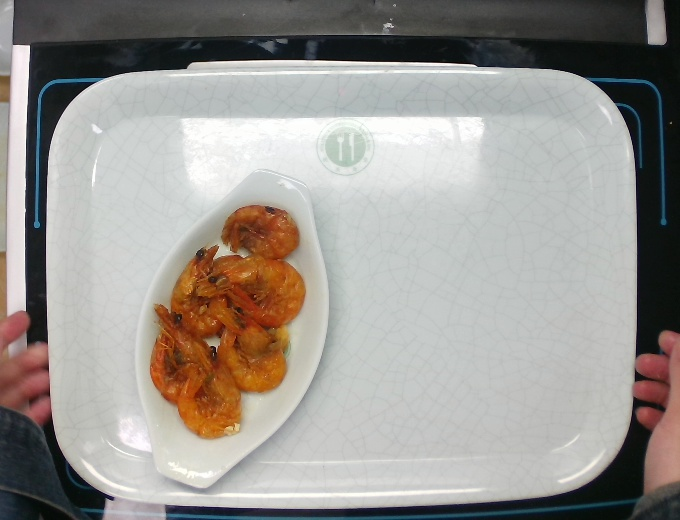JYsf-Yu_Pan: (133, 162, 335, 493)
